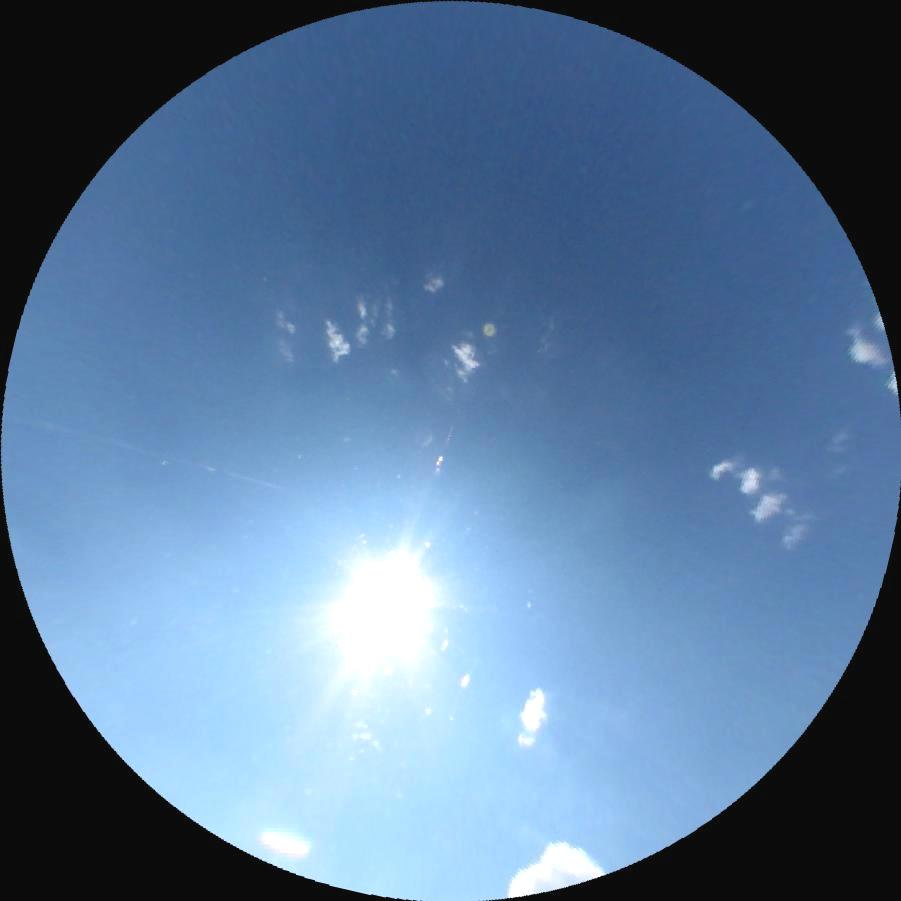parasite: (1, 410, 292, 494)
sun: (341, 561, 431, 656)
